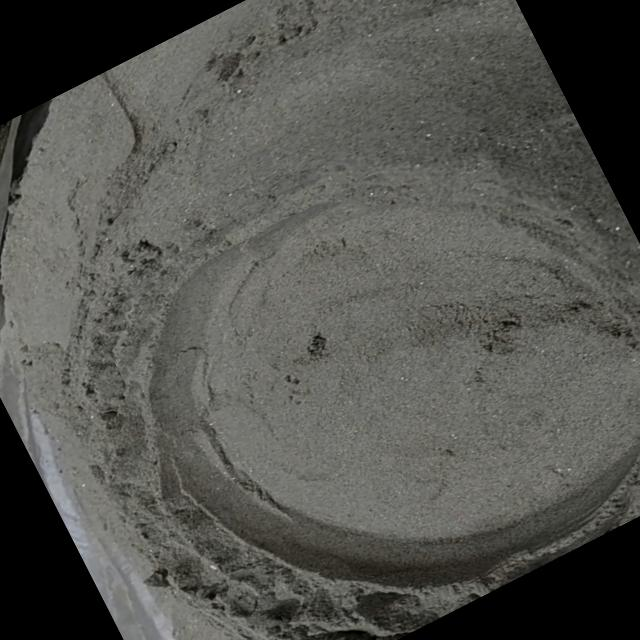C20: (147, 188, 640, 588)
